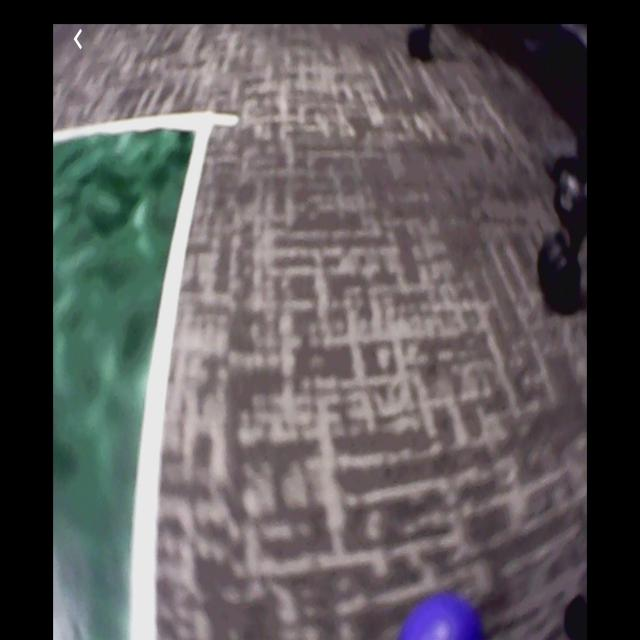ball: (400, 596, 486, 640)
